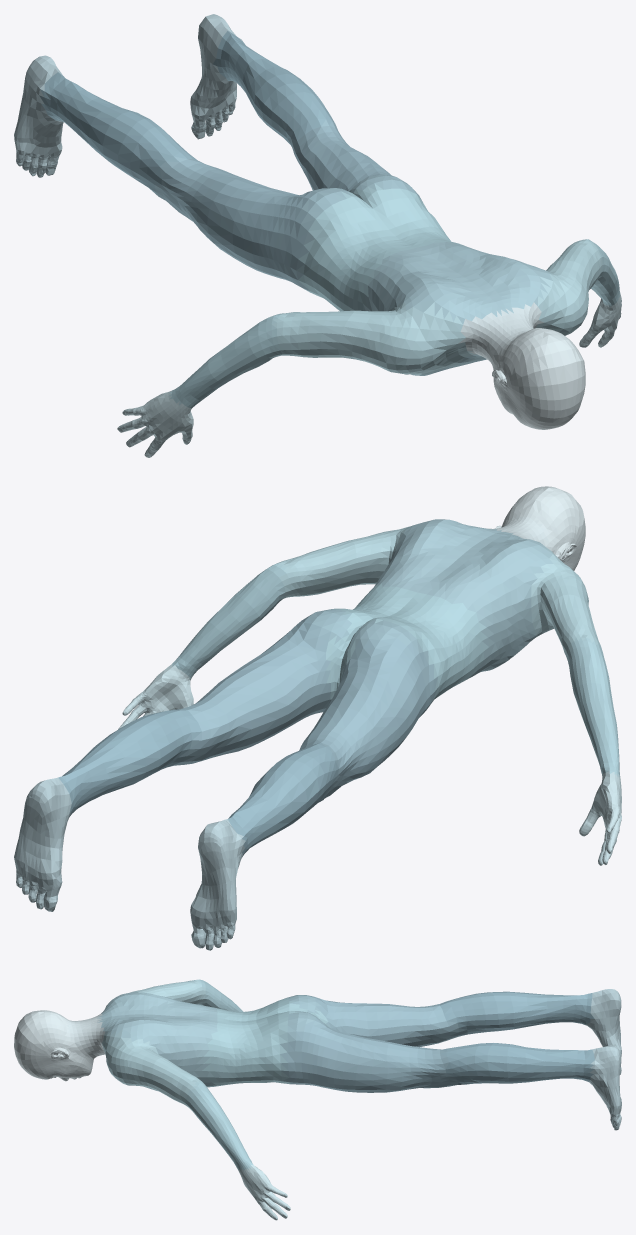
Rendered from crew_C3.glb.
The picture shows the model from 3 angles, top to bottom: view 1: azimuth 30°, elevation 25°; view 2: azimuth 150°, elevation 25°; view 3: azimuth 270°, elevation 25°; orthographic projection. The views are drawn at different scales.
Visible parts, largest first — view 1: right_thigh, chest, abdomen, right_upper_arm, head, right_lower_leg, left_lower_leg, left_upper_arm, right_foot, right_forearm, left_thigh, left_foot (+5 smaller); view 2: abdomen, left_thigh, right_thigh, chest, left_lower_leg, right_lower_leg, left_foot, right_foot, left_upper_arm, left_forearm, right_forearm, right_upper_arm (+5 smaller); view 3: left_thigh, abdomen, chest, left_lower_leg, right_lower_leg, right_thigh, head, left_upper_arm, left_forearm, left_foot, right_foot, left_hand (+4 smaller).
Part boxes in pixels (<box>): right_thigh: <box>154,156,311,290</box>; chest: <box>296,183,460,311</box>; abdomen: <box>363,242,552,375</box>; right_upper_arm: <box>272,302,473,374</box>; head: <box>490,328,585,429</box>; right_lower_leg: <box>39,72,197,195</box>; left_lower_leg: <box>212,31,334,145</box>; left_upper_arm: <box>536,240,602,335</box>; right_foot: <box>14,55,63,177</box>; right_forearm: <box>169,313,284,408</box>; left_thigh: <box>291,119,395,191</box>; left_foot: <box>190,14,242,139</box>; abdomen: <box>374,519,553,674</box>; left_thigh: <box>174,617,331,765</box>; right_thigh: <box>299,638,437,799</box>; chest: <box>326,583,488,703</box>; left_lower_leg: <box>58,709,201,816</box>; right_lower_leg: <box>228,743,338,857</box>; left_foot: <box>14,777,71,911</box>; right_foot: <box>190,819,245,950</box>; left_upper_arm: <box>277,526,409,597</box>; left_forearm: <box>172,563,286,679</box>; right_forearm: <box>568,637,619,776</box>; right_upper_arm: <box>531,546,601,660</box>; left_thigh: <box>280,1017,458,1092</box>; abdomen: <box>97,992,217,1090</box>; chest: <box>202,997,330,1086</box>; left_lower_leg: <box>440,1043,594,1084</box>; right_lower_leg: <box>440,991,594,1036</box>; right_thigh: <box>308,995,466,1047</box>; head: <box>14,1010,96,1081</box>; left_upper_arm: <box>101,1029,200,1105</box>; left_forearm: <box>185,1080,253,1171</box>; left_foot: <box>589,1045,621,1130</box>; right_foot: <box>586,989,621,1074</box>; left_hand: <box>238,1165,290,1220</box>.
Bounding box in the file's own units: 1.22 × 0.4791 × 1.9.
